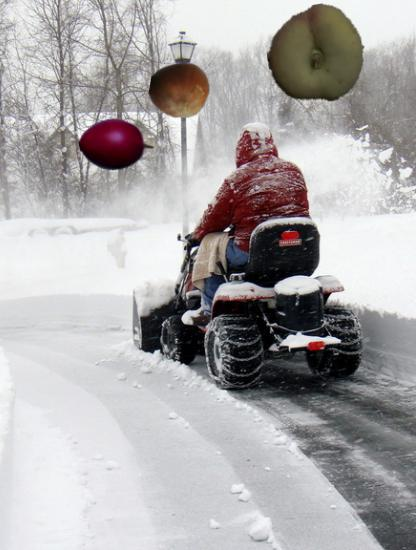Nut: (150, 60, 210, 120)
Peach: (267, 5, 366, 104)
Tamarillo: (80, 108, 153, 181)
